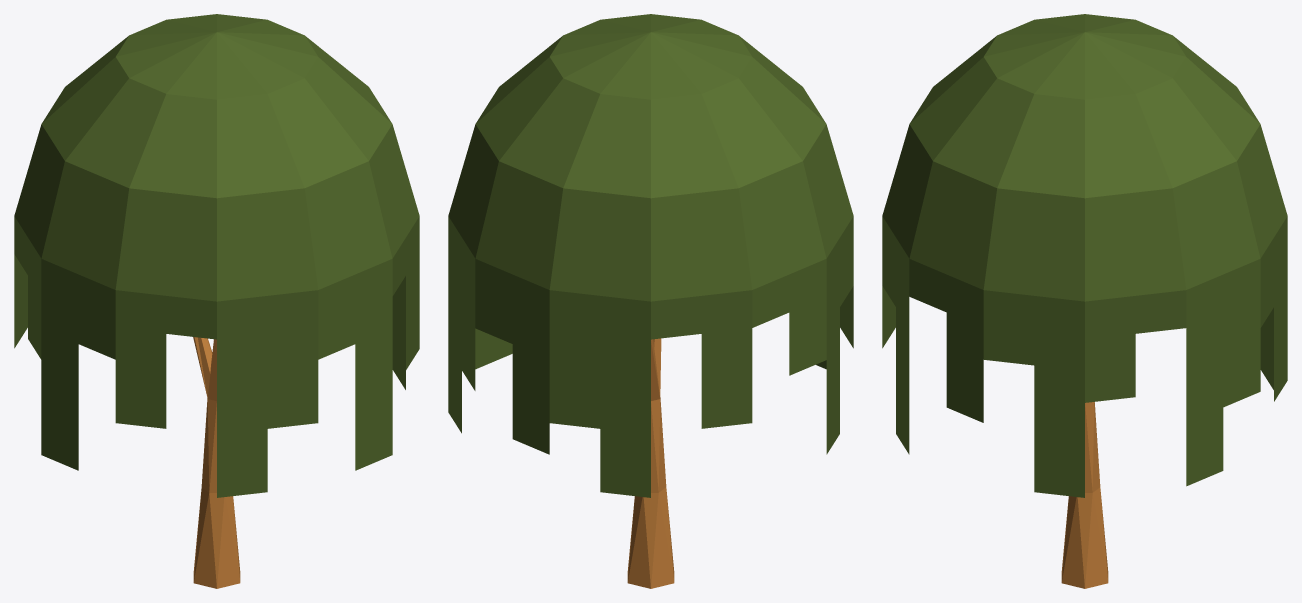
File: willow_tree_3.fbx
3 renders of one model, left to right at view 1: azimuth 30°, elevation 25°; view 2: azimuth 150°, elevation 25°; view 3: azimuth 270°, elevation 25°, orthographic.
Parts seen in each view (by area): view 1: C-tree leaf bubble#1, G-Object.001; view 2: C-tree leaf bubble#1, G-Object.001; view 3: C-tree leaf bubble#1, G-Object.001.
Part boxes in pixels (left/top/right/bottom): C-tree leaf bubble#1: left=14, top=14, right=419, bottom=497; G-Object.001: left=193, top=337, right=240, bottom=588; C-tree leaf bubble#1: left=448, top=14, right=853, bottom=497; G-Object.001: left=627, top=338, right=674, bottom=588; C-tree leaf bubble#1: left=882, top=14, right=1287, bottom=497; G-Object.001: left=1061, top=402, right=1108, bottom=588.
Bounding box in the file's own units: 609 × 904 × 609.
